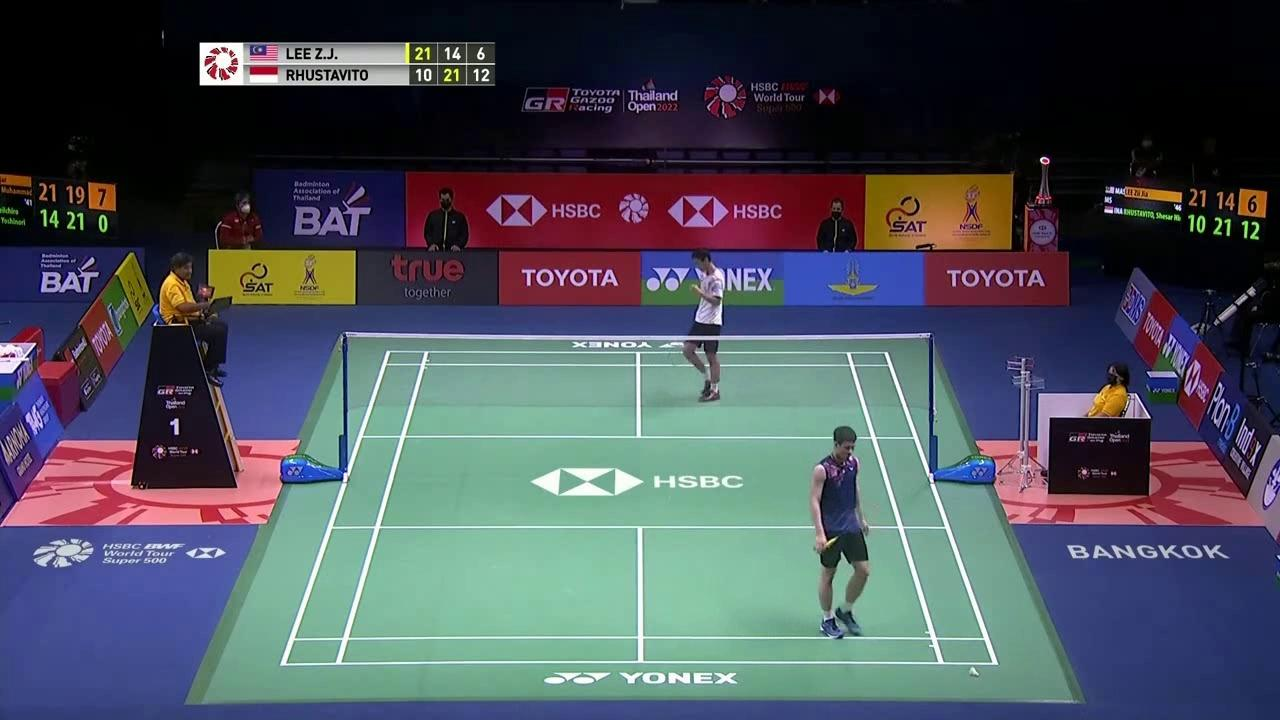racket: (820, 504, 871, 553), (666, 333, 698, 370)
shuttle: (966, 665, 981, 679)
